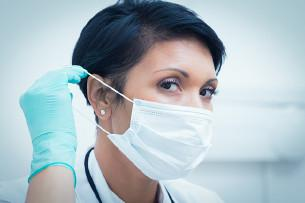OK: (97, 59, 219, 181)
